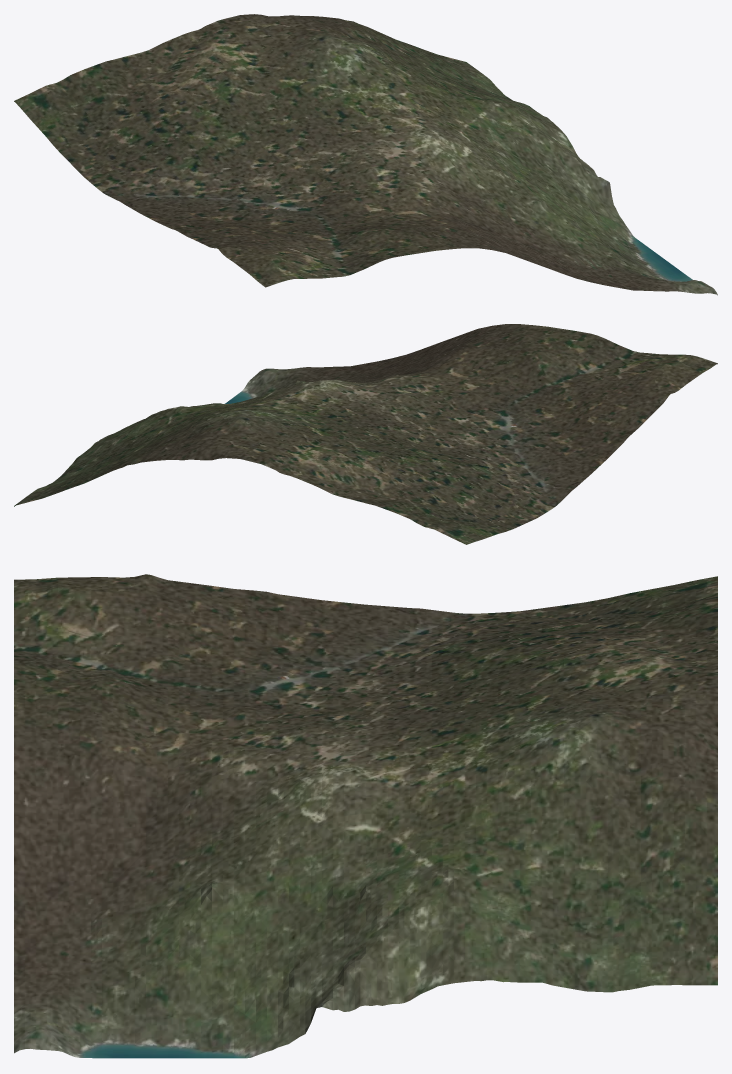
3 renders of one model, top to bottom at view 1: azimuth 30°, elevation 25°; view 2: azimuth 150°, elevation 25°; view 3: azimuth 270°, elevation 25°, orthographic. The views are drawn at different scales.
Bounding box in the file's own units: 500 × 164 × 481.
Materials: 1 (1 with a texture image).
